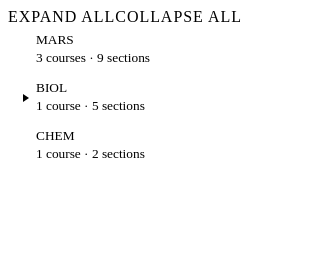
Scenario: HierarchyNav › opens and closes one node, and expands and collapses all
Click the button named "What BIOL holds".
click(26, 98)  # box [16, 88, 36, 108]
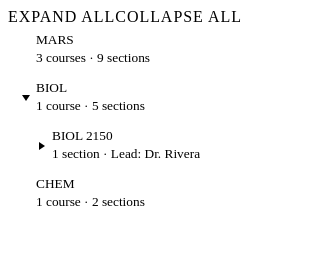
Expected: the text "R3WW · Dr. M. Ellison" is not shown
Result: the text "BIOL 2150" is shown at [52, 128, 113, 144]
Result: the button named "What BIOL holds" is expanded at [16, 88, 36, 108]
Click the button "Expand all".
click(62, 17)  # box [8, 8, 115, 26]
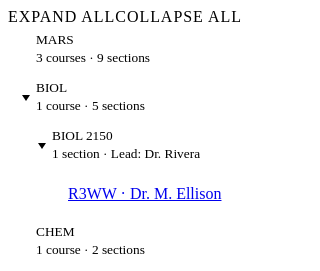
Result: the text "R3WW · Dr. M. Ellison" is shown at [68, 185, 222, 202]
Click the button "Collapse all".
click(179, 17)  # box [115, 8, 242, 26]
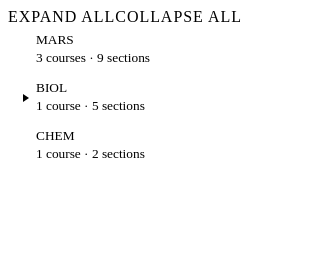
Result: the button "BIOL 2150" is gone
